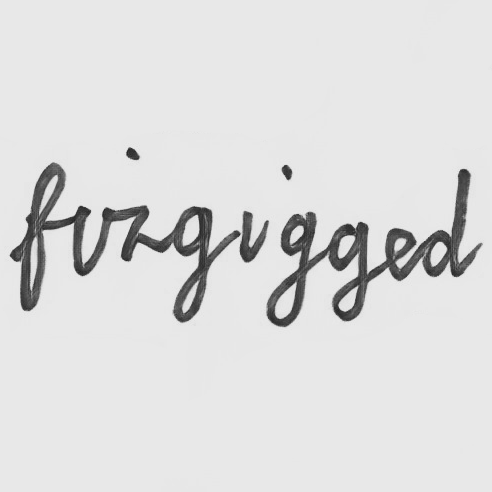d: (420, 166, 475, 280)
e: (382, 226, 419, 283)
f: (9, 160, 67, 312)
g: (264, 210, 318, 328), (169, 204, 217, 325), (324, 219, 375, 323)
i: (67, 197, 94, 279), (233, 204, 261, 266)
z: (98, 203, 159, 263)
